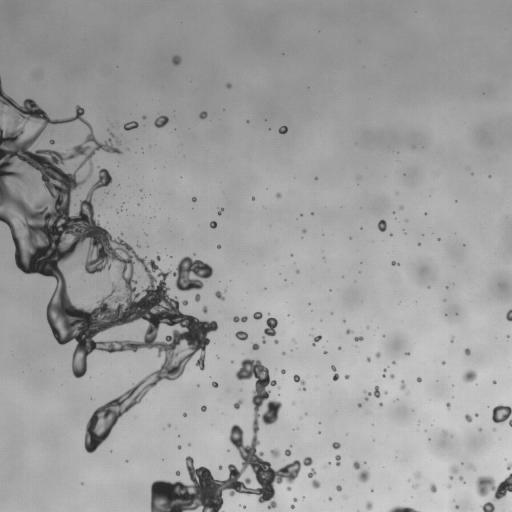droplet: (476, 473, 511, 500), (492, 405, 511, 426), (353, 461, 369, 482), (365, 385, 380, 400), (154, 115, 168, 127), (463, 370, 476, 382), (124, 121, 138, 130), (481, 502, 494, 511), (377, 219, 386, 231), (235, 331, 247, 340), (172, 55, 181, 65), (233, 399, 242, 409), (215, 291, 224, 300), (313, 335, 321, 345), (278, 126, 287, 134), (270, 449, 279, 457), (312, 480, 320, 488), (253, 312, 262, 319), (506, 309, 511, 321), (199, 111, 207, 118), (332, 442, 340, 449), (451, 466, 458, 474), (308, 469, 315, 477), (210, 221, 217, 228), (252, 343, 259, 350), (284, 449, 291, 456), (465, 414, 471, 422), (430, 484, 436, 492), (366, 501, 372, 509), (354, 336, 363, 341), (400, 380, 405, 389), (464, 348, 470, 355), (212, 381, 218, 387), (195, 294, 200, 301), (458, 476, 464, 481), (336, 485, 341, 491), (203, 306, 207, 313), (507, 462, 511, 469), (226, 83, 231, 88), (218, 209, 223, 214), (201, 406, 206, 411), (414, 472, 419, 477), (391, 261, 397, 265), (446, 402, 450, 408), (50, 139, 54, 144), (346, 329, 351, 333), (376, 352, 380, 357), (345, 374, 349, 379), (417, 377, 421, 382), (286, 486, 291, 490), (110, 133, 114, 137), (276, 193, 280, 197), (192, 197, 196, 201), (366, 357, 370, 361), (281, 369, 285, 373), (390, 374, 394, 378), (443, 431, 447, 435), (469, 465, 473, 469), (117, 140, 120, 144), (303, 229, 306, 233), (450, 338, 453, 342), (358, 403, 361, 407), (177, 445, 181, 448), (219, 465, 222, 469), (176, 471, 179, 475), (449, 475, 452, 479), (291, 504, 294, 508), (400, 206, 403, 209), (217, 245, 220, 248), (274, 340, 277, 343), (323, 351, 326, 354), (406, 352, 409, 355), (493, 380, 496, 383), (183, 413, 186, 416), (413, 485, 416, 488), (328, 497, 331, 500), (293, 498, 296, 501), (455, 505, 458, 508), (143, 116, 145, 119), (27, 192, 29, 195), (296, 270, 299, 272), (392, 361, 395, 363), (442, 361, 444, 364), (405, 392, 408, 394), (379, 403, 382, 405), (475, 414, 478, 416), (328, 462, 331, 464), (488, 175, 490, 177), (311, 212, 313, 214), (137, 245, 139, 247), (339, 347, 341, 349), (384, 368, 386, 370), (385, 391, 387, 393), (448, 485, 450, 487), (243, 505, 245, 507)
ligament: (0, 78, 217, 453), (151, 359, 312, 511), (262, 316, 277, 343), (293, 374, 305, 390), (388, 506, 418, 511), (331, 365, 338, 380), (233, 316, 247, 322), (335, 455, 340, 466), (0, 110, 1, 113)
